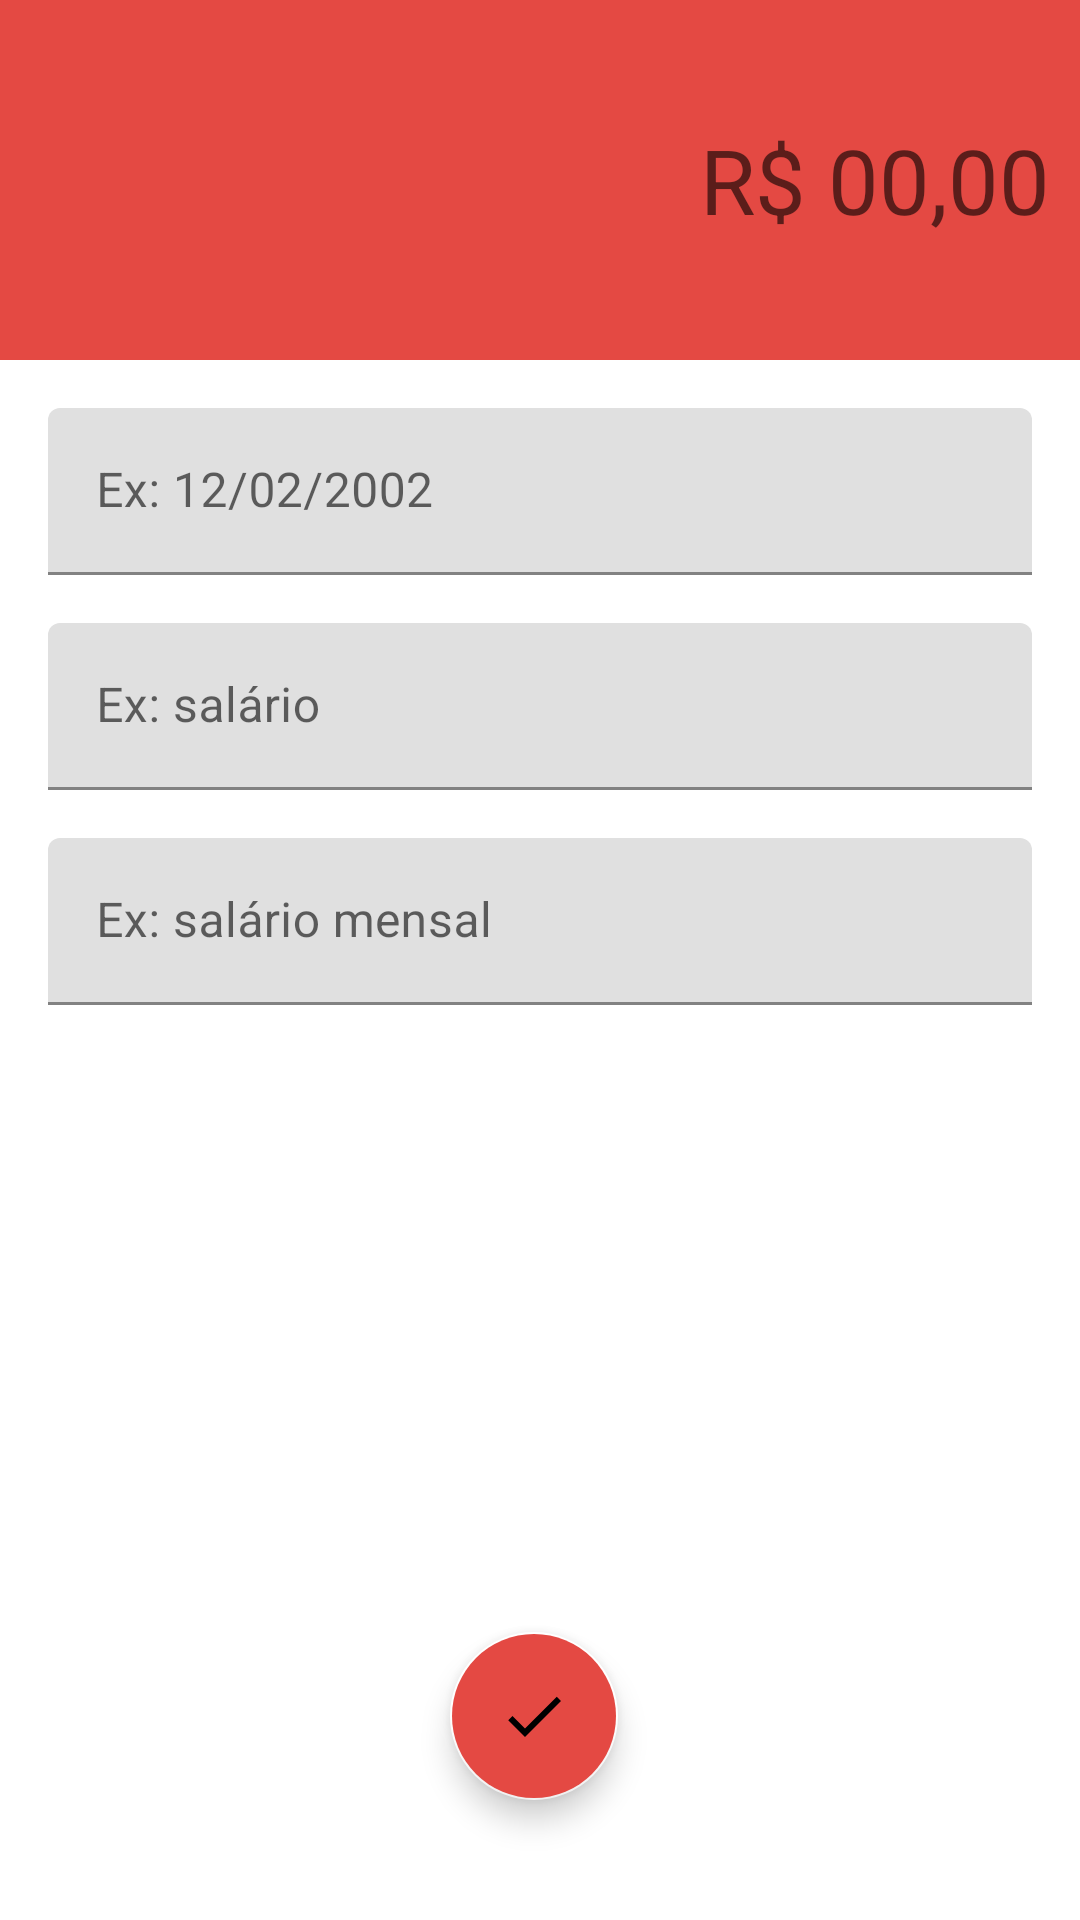

Named icons in this screenshot (1080 x 1920) and their bounding boxes, (x1, y1, x2, y2):
check: (452, 1634, 618, 1798)
